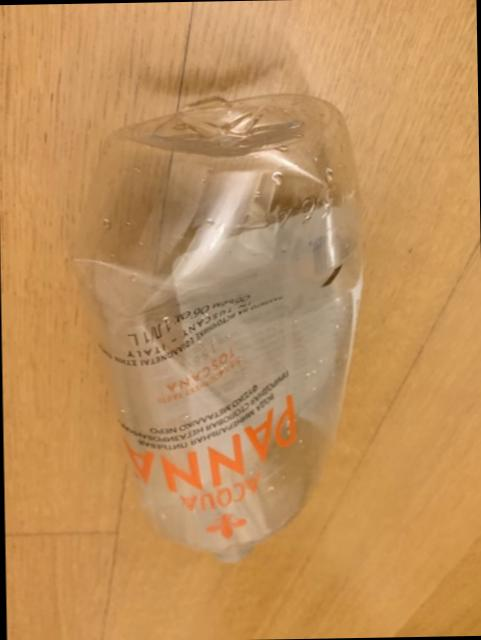plastic: (75, 97, 362, 562)
